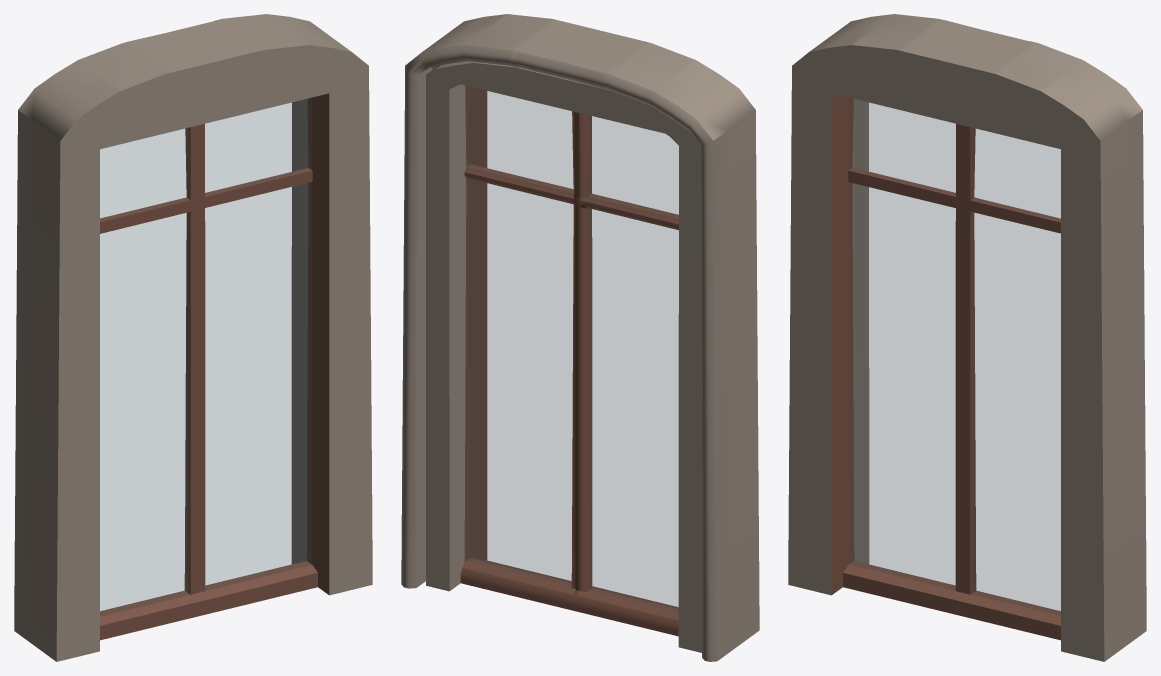
Rendered from Door1.fbx.
The picture shows the model from 3 angles, left to right: view 1: azimuth 30°, elevation 25°; view 2: azimuth 150°, elevation 25°; view 3: azimuth 330°, elevation 25°; orthographic projection.
Visible parts, largest first — view 1: pCube53; view 2: pCube53; view 3: pCube53.
Boxes of the visible parts, left/top/right/bottom form: pCube53: left=14, top=14, right=372, bottom=661; pCube53: left=401, top=14, right=759, bottom=661; pCube53: left=788, top=14, right=1146, bottom=661.
Bounding box in the file's own units: 5.34 × 9.06 × 1.31.
